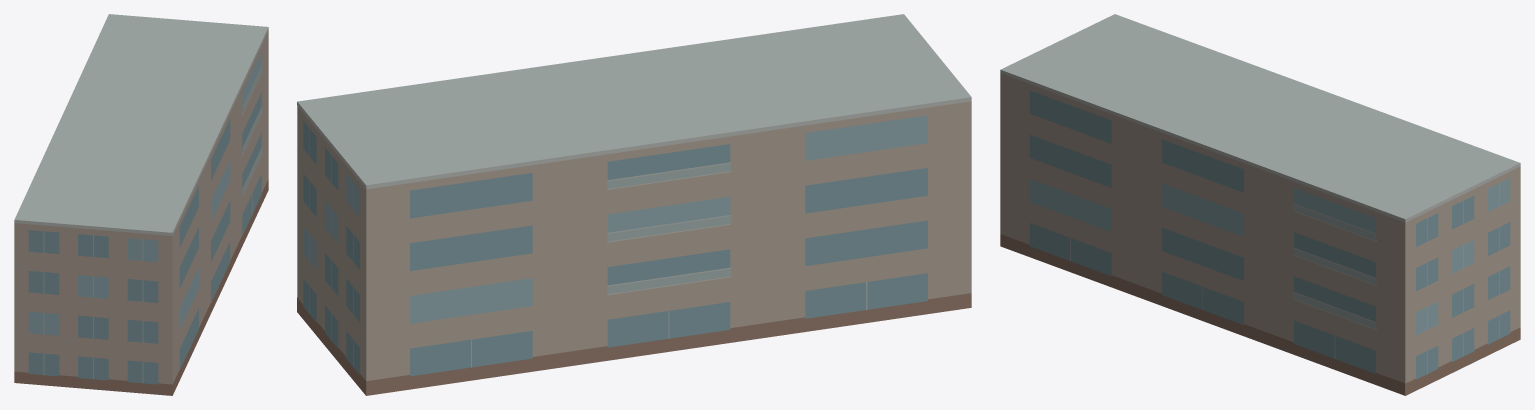
File: survey-upis-32930123.glb
3 views of the same model, side by side, from view 1: azimuth 30°, elevation 25°; view 2: azimuth 150°, elevation 25°; view 3: azimuth 270°, elevation 25° (orthographic). The views are drawn at different scales.
Parts seen in each view (by area): view 1: survey-upis-32930123.tmp; view 2: survey-upis-32930123.tmp; view 3: survey-upis-32930123.tmp.
Boxes of the visible parts, x1,y1,x2,y2 form: survey-upis-32930123.tmp: (14, 14, 268, 395); survey-upis-32930123.tmp: (297, 14, 971, 395); survey-upis-32930123.tmp: (1000, 14, 1520, 395).
Bounding box in the file's own units: 31.16 × 12.5 × 33.37.
